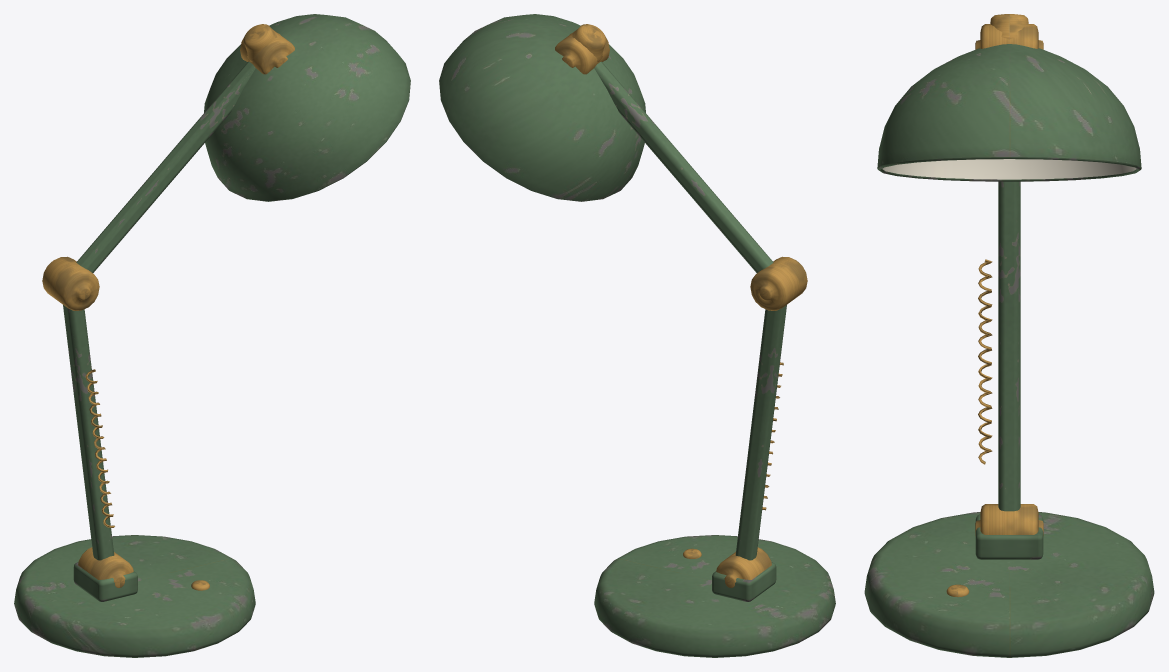
File: lamp.glb
3 views of the same model, side by side, from view 1: azimuth 30°, elevation 25°; view 2: azimuth 150°, elevation 25°; view 3: azimuth 270°, elevation 25° (orthographic). The views are drawn at different scales.
Visible parts, largest first — view 1: shade_outer, base, arm_upper, arm_lower, joint_elbow, arm_mount, joint_base, joint_head, arm_spring, shade_knob; view 2: shade_outer, base, arm_lower, arm_upper, joint_elbow, arm_mount, joint_base, joint_head, shade_knob; view 3: base, shade_outer, arm_lower, shade_inner, arm_mount, joint_base, shade_rim, arm_spring, joint_head, shade_knob.
Part boxes in pixels (x1,y1,x2,y2): shade_outer: [204, 14, 410, 201]; base: [14, 535, 255, 657]; arm_upper: [76, 61, 255, 272]; arm_lower: [63, 305, 114, 560]; joint_elbow: [42, 256, 99, 310]; arm_mount: [73, 562, 137, 601]; joint_base: [78, 547, 133, 587]; joint_head: [240, 31, 294, 74]; arm_spring: [85, 369, 114, 527]; shade_knob: [243, 24, 281, 61]; shade_outer: [439, 14, 645, 201]; base: [594, 535, 835, 657]; arm_lower: [735, 305, 786, 560]; arm_upper: [594, 61, 773, 272]; joint_elbow: [750, 256, 807, 310]; arm_mount: [712, 562, 776, 601]; joint_base: [716, 547, 771, 587]; joint_head: [555, 31, 609, 74]; shade_knob: [568, 24, 606, 61]; base: [864, 512, 1154, 657]; shade_outer: [877, 44, 1141, 168]; arm_lower: [998, 181, 1020, 511]; shade_inner: [882, 159, 1136, 179]; arm_mount: [975, 514, 1043, 559]; joint_base: [975, 504, 1043, 535]; shade_rim: [877, 157, 1141, 181]; arm_spring: [978, 259, 992, 464]; joint_head: [975, 24, 1043, 49]; shade_knob: [990, 14, 1028, 39].
Bounding box in the file's own units: 3.13 × 4.53 × 1.8.
Materials: 2 (1 with a texture image).
